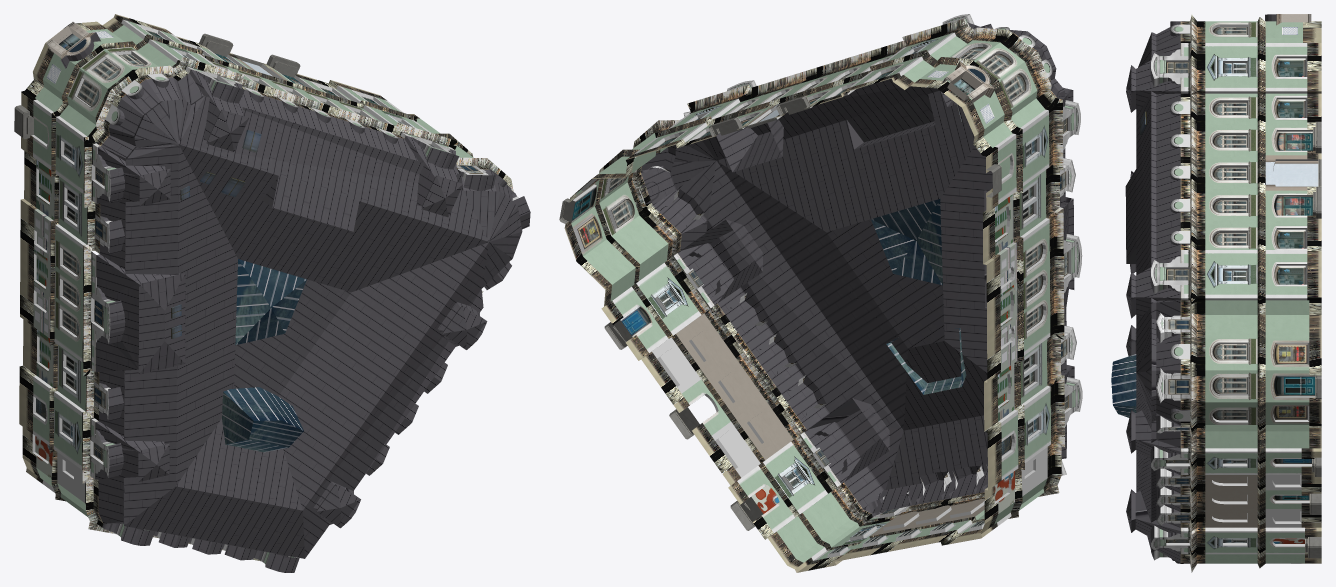
Rendered from Parnu12.obj.
3 views of the same model, side by side, from view 1: azimuth 30°, elevation 25°; view 2: azimuth 150°, elevation 25°; view 3: azimuth 270°, elevation 25° (orthographic). The views are drawn at different scales.
Visible parts, largest first — view 1: Parnu12; view 2: Parnu12; view 3: Parnu12.
Boxes of the visible parts, <box> form: Parnu12: <box>14,14,530,572</box>; Parnu12: <box>559,14,1082,572</box>; Parnu12: <box>1111,14,1321,572</box>.
Size of the model in its own units: 38.2 by 44.82 by 17.26.
